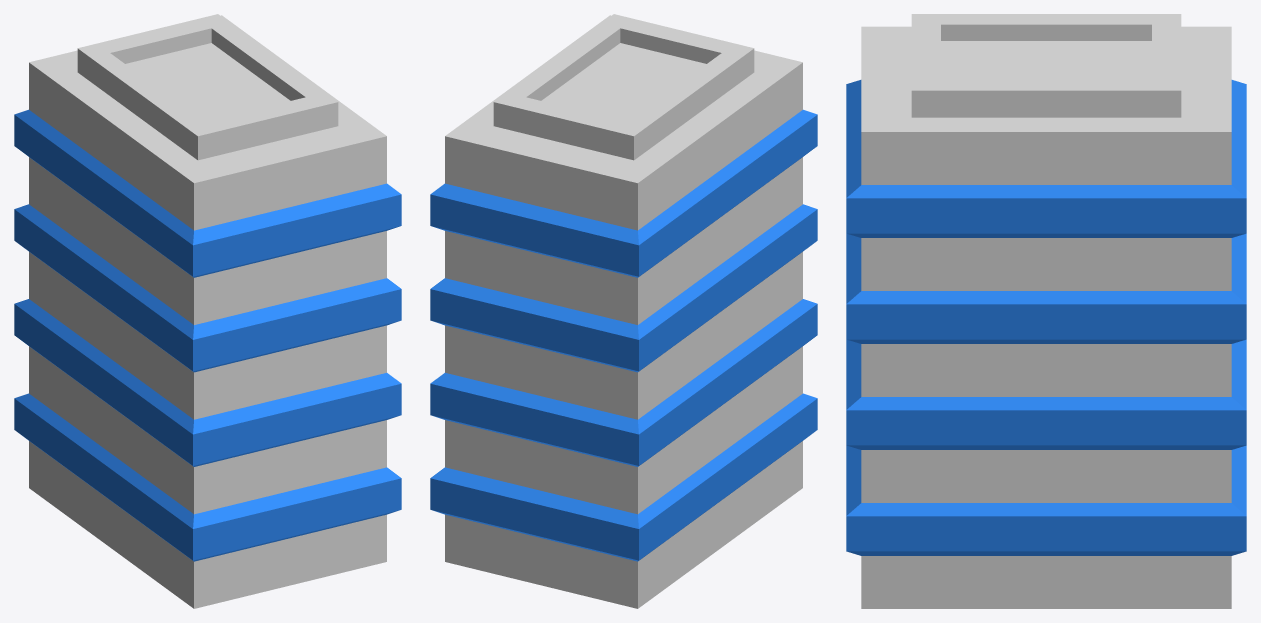
Rendered from building_strips_blue.glb.
3 views of the same model, side by side, from view 1: azimuth 30°, elevation 25°; view 2: azimuth 150°, elevation 25°; view 3: azimuth 270°, elevation 25° (orthographic). The views are drawn at different scales.
Parts seen in each view (by area): view 1: building_strips; view 2: building_strips; view 3: building_strips.
Boxes of the visible parts, bbox=[...] form: building_strips: bbox=[14, 14, 401, 608]; building_strips: bbox=[430, 14, 817, 608]; building_strips: bbox=[846, 14, 1246, 608].
Bounding box in the file's own units: 7.22 × 14.87 × 10.71.
Materials: 1 (1 with a texture image).
